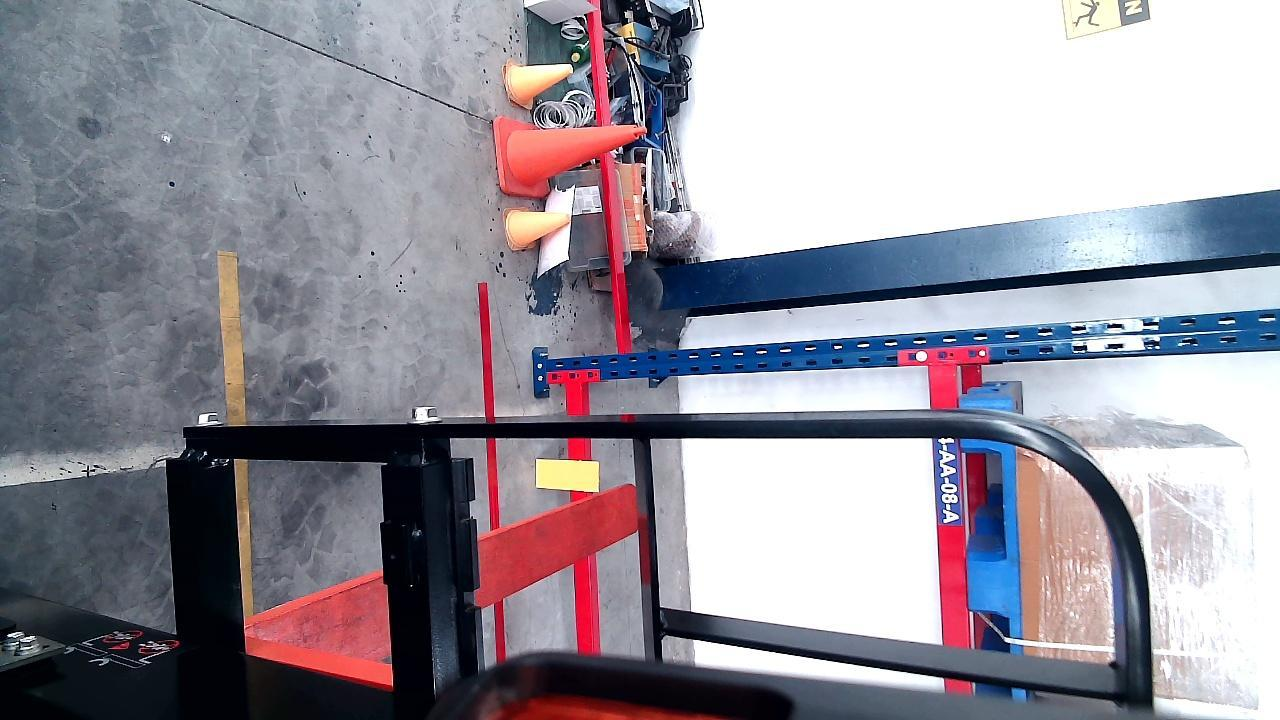red_line: (480, 286, 507, 665)
yellow_line: (218, 244, 248, 614)
